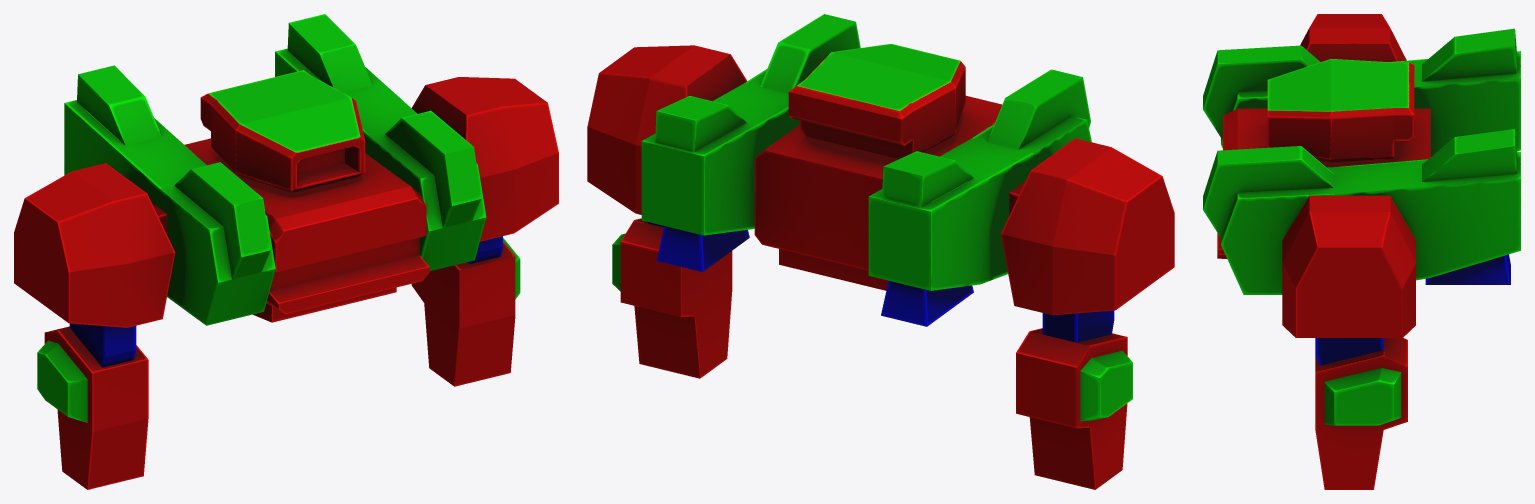
File: heavybody.glb
3 views of the same model, side by side, from view 1: azimuth 30°, elevation 25°; view 2: azimuth 150°, elevation 25°; view 3: azimuth 270°, elevation 25° (orthographic). The views are drawn at different scales.
Parts seen in each view (by area): view 1: Cube.064; view 2: Cube.064; view 3: Cube.064.
Boxes of the visible parts, x1,y1,x2,y2 form: Cube.064: (14, 14, 558, 489); Cube.064: (587, 14, 1174, 489); Cube.064: (1203, 14, 1520, 489).
Size of the model in its own units: 5.73 by 3.63 by 3.29.
1 material, 1 textured.
